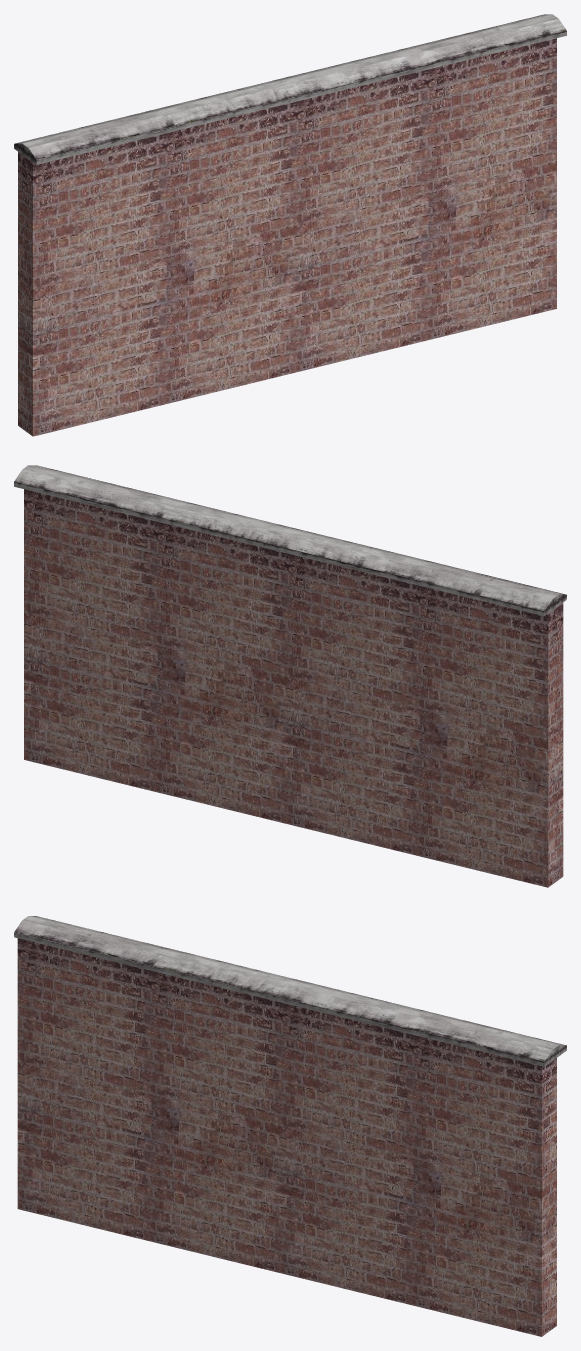
The model's file is Urban_BrickWallOneOverhang_Model.fbx.
3 views of the same model, one above another, from view 1: azimuth 30°, elevation 25°; view 2: azimuth 150°, elevation 25°; view 3: azimuth 330°, elevation 25° (orthographic).
Parts seen in each view (by area): view 1: Urban_BrickWallOneOverhang_Mesh; view 2: Urban_BrickWallOneOverhang_Mesh; view 3: Urban_BrickWallOneOverhang_Mesh.
Part boxes in pixels (x1,y1,x2,y2): Urban_BrickWallOneOverhang_Mesh: (14,14,566,436); Urban_BrickWallOneOverhang_Mesh: (14,465,566,887); Urban_BrickWallOneOverhang_Mesh: (14,916,566,1336).
Size of the model in its own units: 4.05 by 2.08 by 0.2996.
